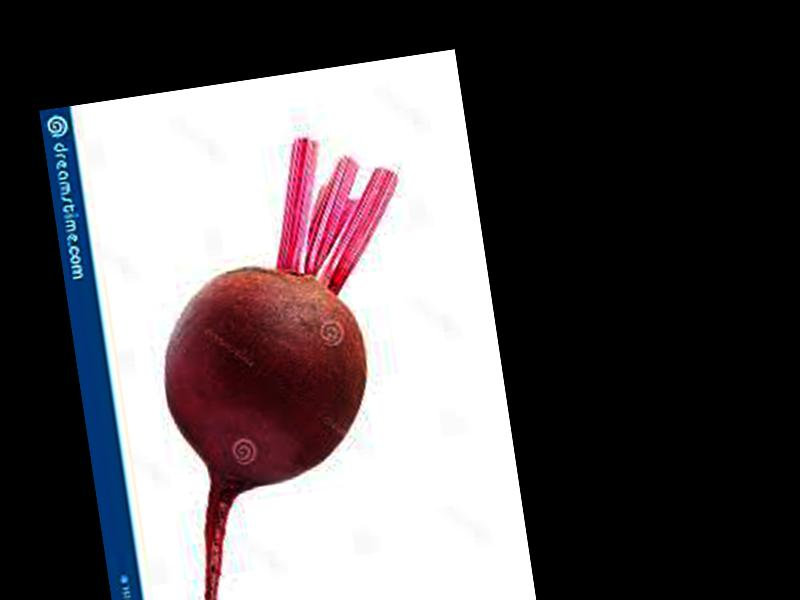Beet: (136, 127, 454, 600)
